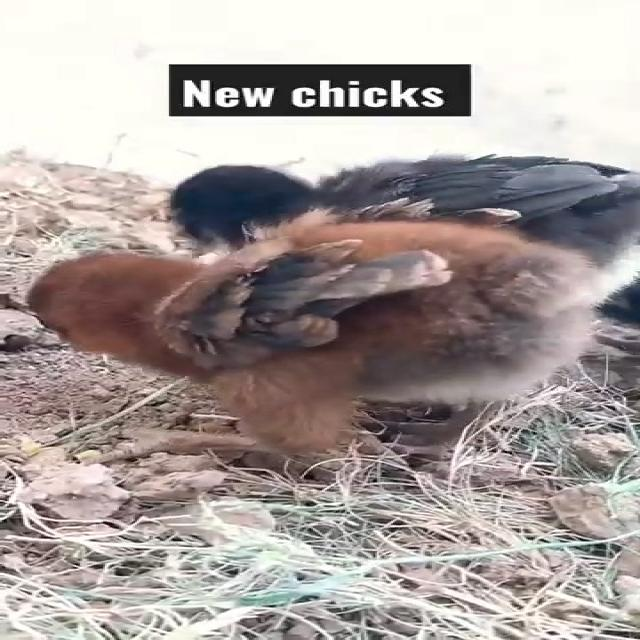stand bath: (10, 208, 640, 482)
